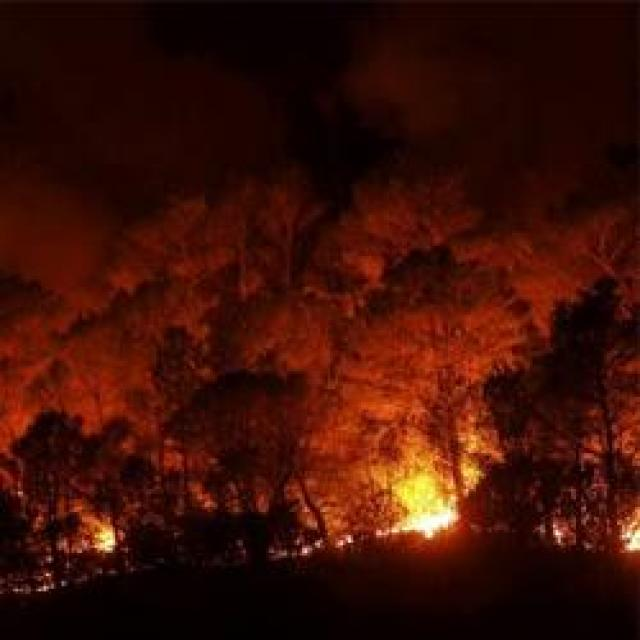fire: (390, 492, 466, 544), (80, 524, 125, 555), (612, 517, 640, 553)
